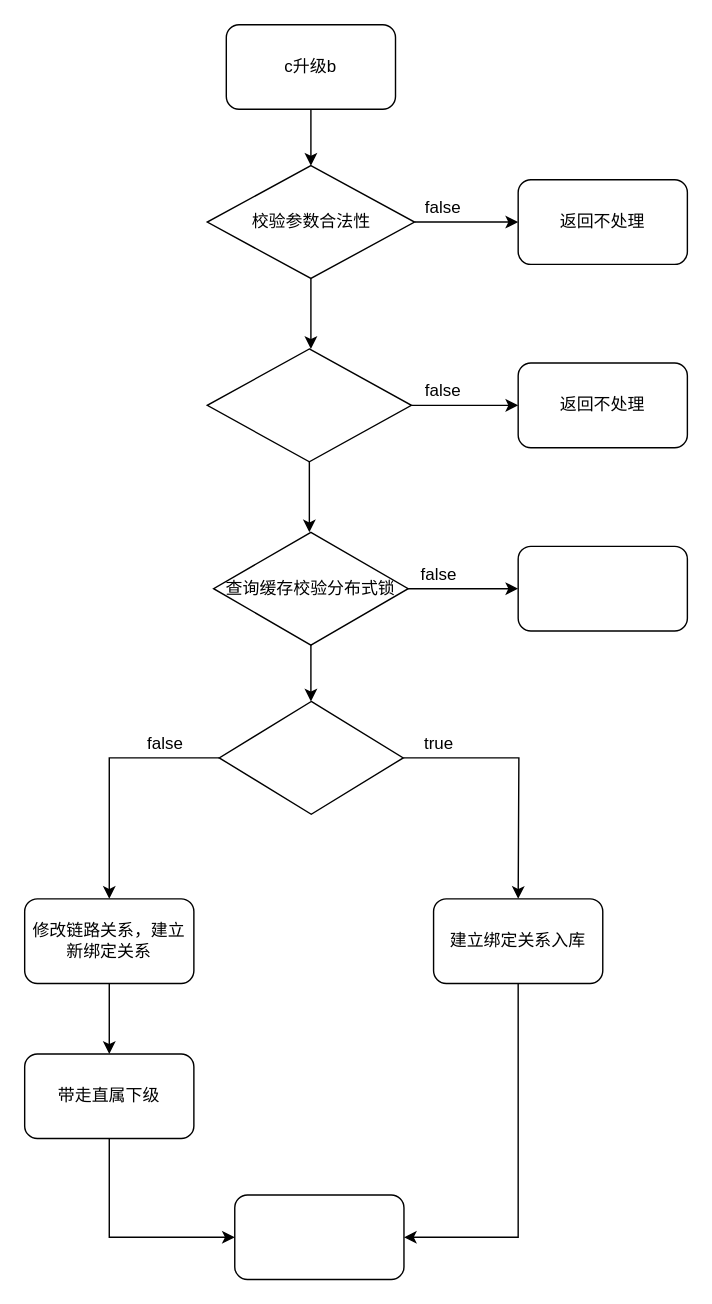
This 712x1304 diagram has some shape labels left out. Each missing label, with the centre of its shape:
"推送拉新job" goes at point (318, 1237).
"查询上级是否存在绑定关系" goes at point (308, 405).
"查询是当前登录用户是否存在绑定关系" goes at point (310, 757).
"校验失败，返回不处理" goes at point (602, 588).
